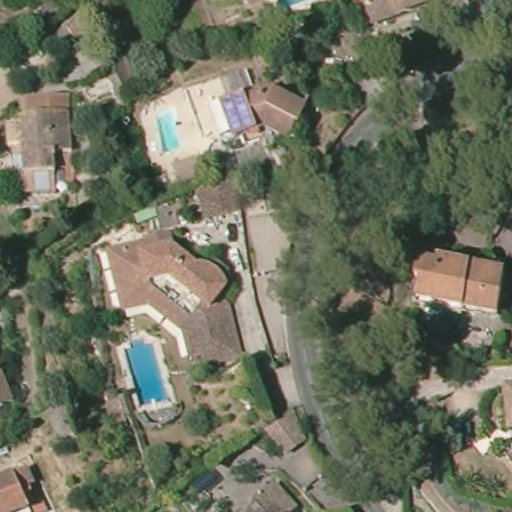pool: (113, 329, 175, 411), (151, 103, 188, 161)
